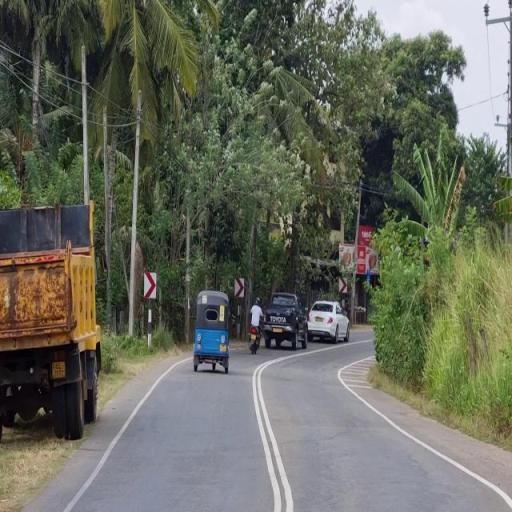double_white_line: (252, 357, 291, 512)
